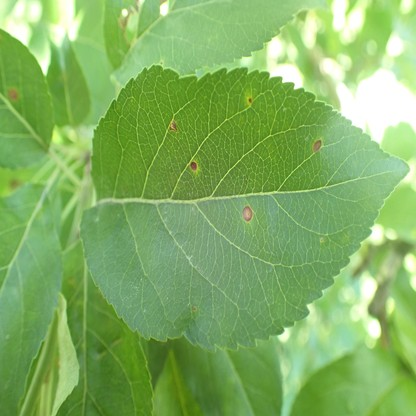frogeye_leaf_spot: (242, 206, 253, 222), (7, 88, 18, 101), (313, 139, 322, 152), (170, 121, 177, 131), (190, 161, 197, 169)
